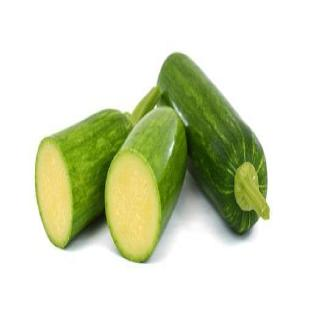Zucchini: (158, 53, 269, 232), (36, 88, 160, 248), (105, 107, 187, 261)
